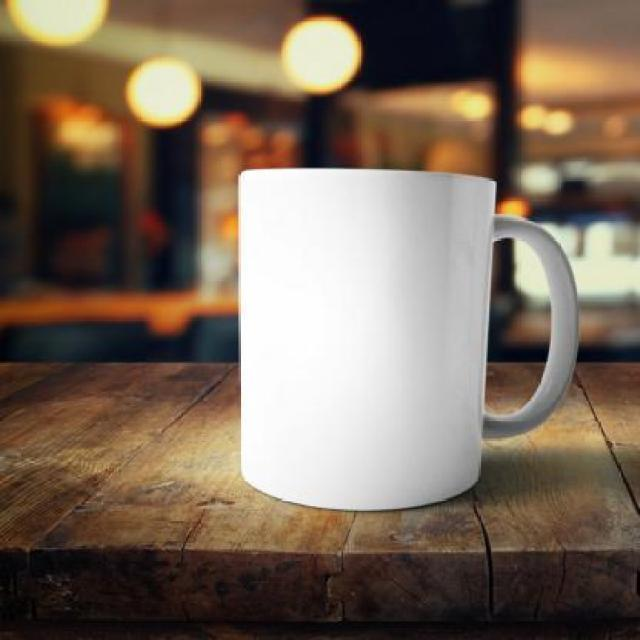taza: (235, 169, 582, 513)
